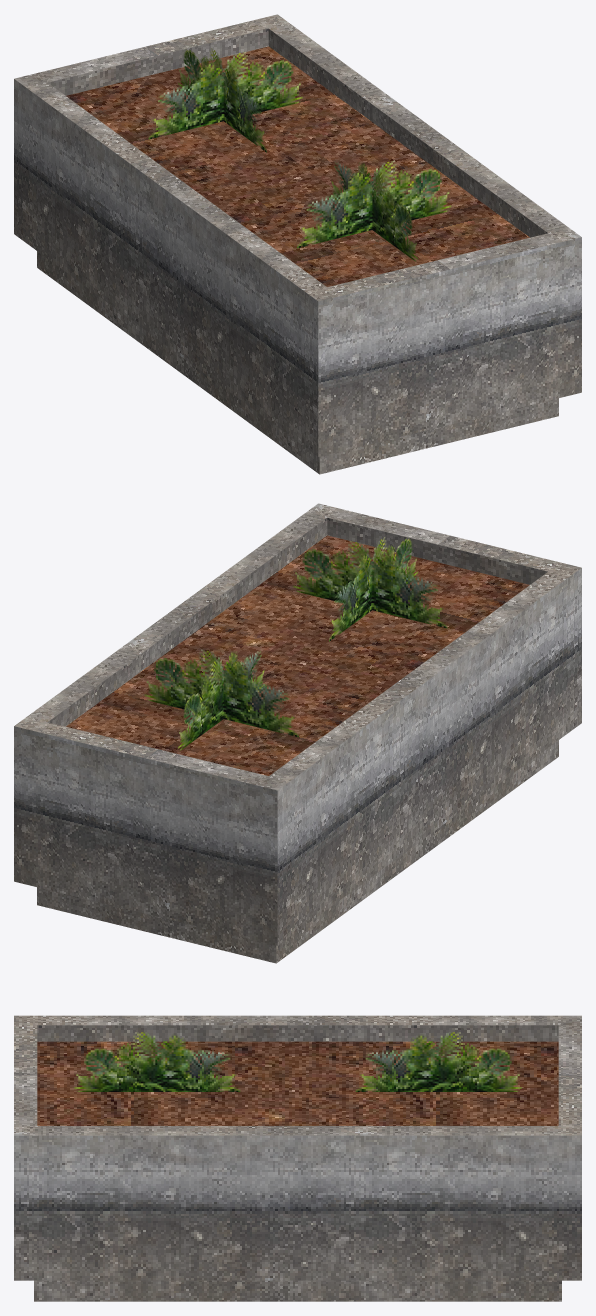
File: planter1.glb
3 views of the same model, one above another, from view 1: azimuth 30°, elevation 25°; view 2: azimuth 150°, elevation 25°; view 3: azimuth 270°, elevation 25° (orthographic). The views are drawn at different scales.
Visible parts, largest first — view 1: planter, Plane.001; view 2: planter, Plane.001; view 3: planter, Plane.001.
Part boxes in pixels (x1,y1,x2,y2): planter: (14,14,581,474); Plane.001: (148,48,452,261); planter: (14,503,581,963); Plane.001: (143,537,447,750); planter: (14,1015,581,1301); Plane.001: (73,1032,522,1091).
Bounding box in the file's own units: 1.88 × 1.57 × 3.75.
Materials: 3 (3 with a texture image).
